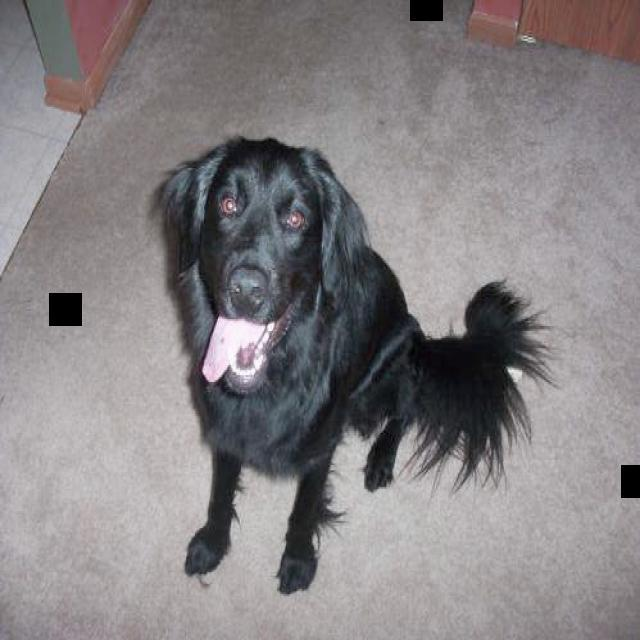adult_dog: (154, 129, 551, 598)
